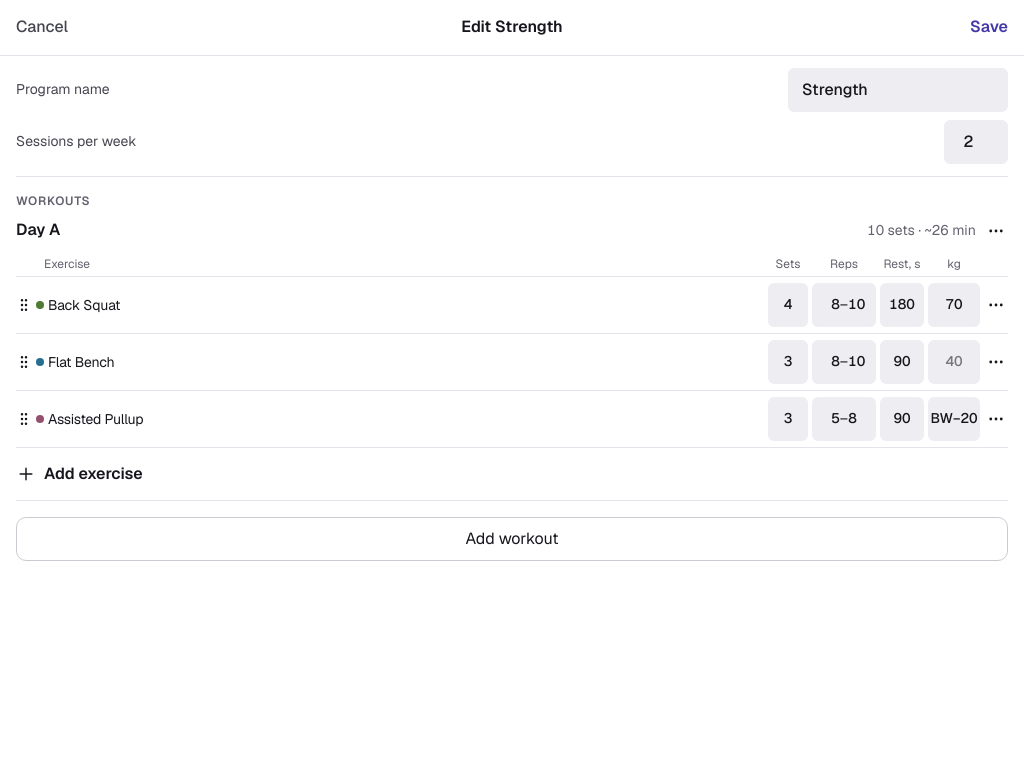
Test: S7b putting a row back as it was takes the impact card away
The image size is (1024, 768).
Replace the text in the 6th number field named "Sets" with "4" at (788,362), box 770,342 -> 806,382
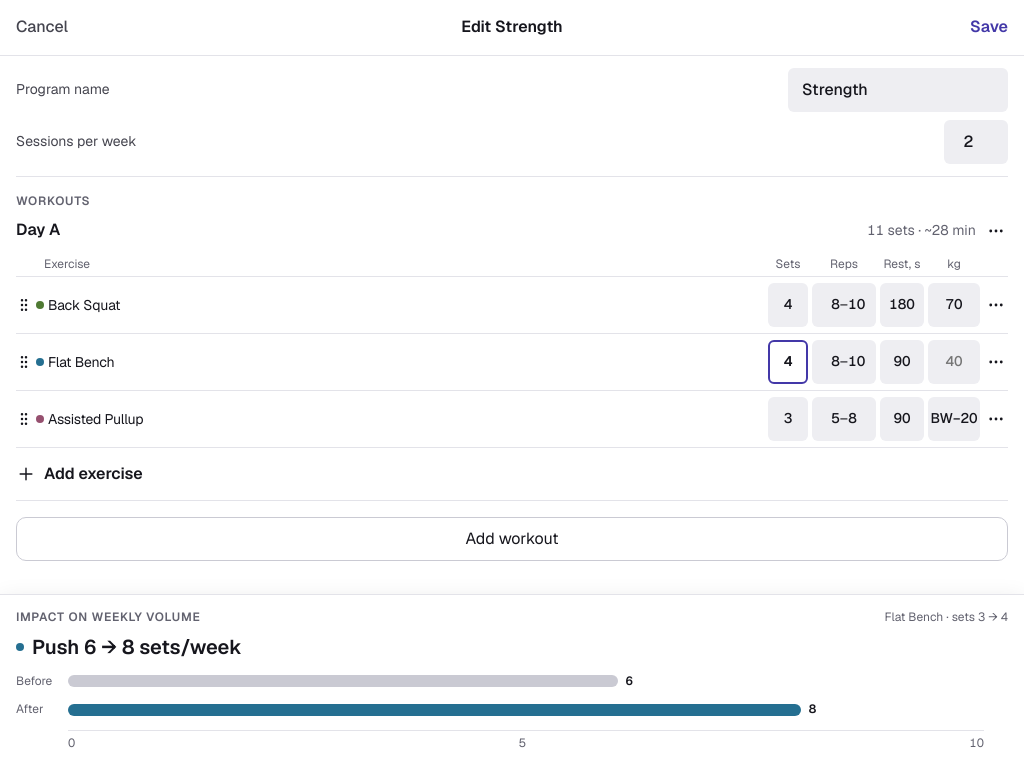
Expected: the element "Impact on weekly volume" is shown, 0,594 -> 1023,767
Replace the text in the 6th number field named "Sets" with "3" at (788,362), box 770,342 -> 806,382
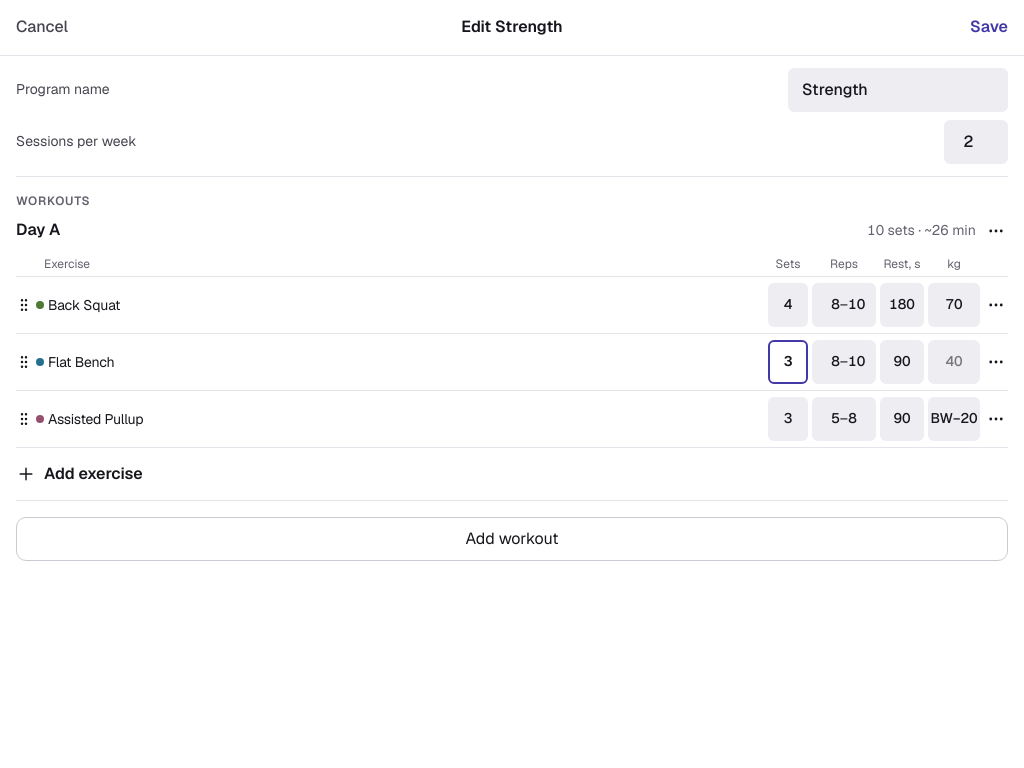
Expected: the text "Impact on weekly volume" is gone
